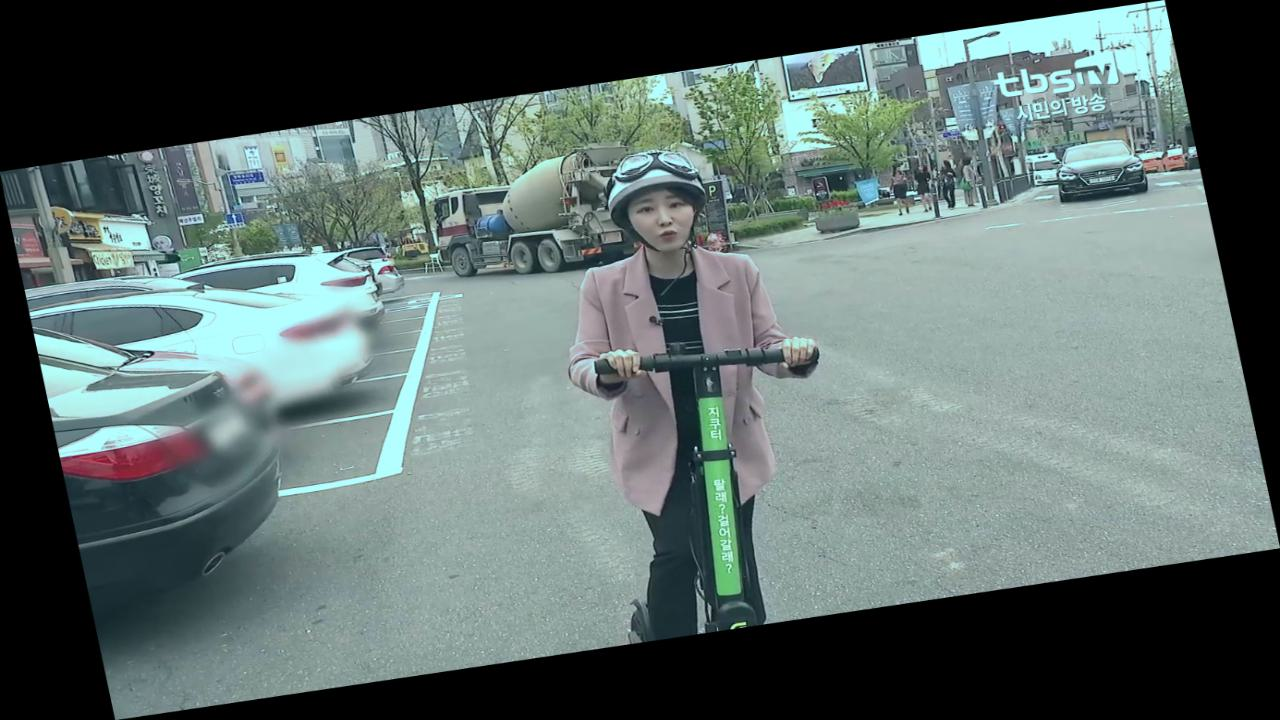helmet: (527, 130, 877, 645)
